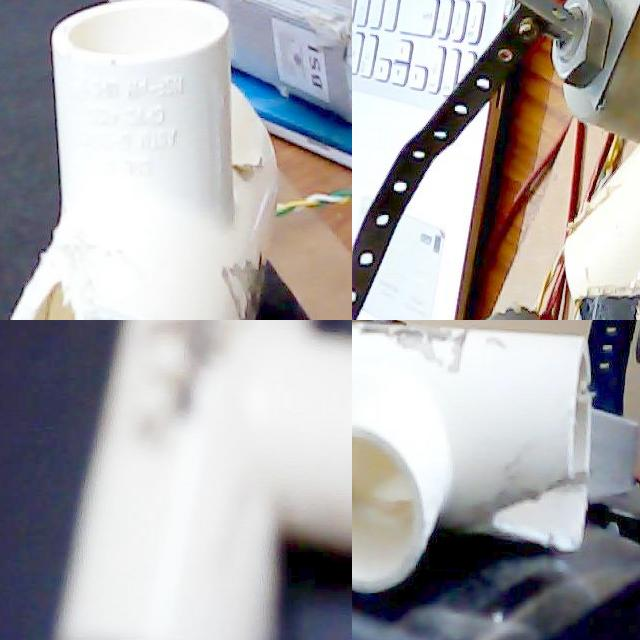Defective: (126, 320, 272, 475), (472, 422, 590, 566), (358, 323, 478, 388), (3, 245, 102, 320), (352, 371, 400, 498), (226, 134, 272, 194), (582, 192, 619, 264), (226, 244, 257, 320), (584, 281, 640, 320)
T Joint: (53, 320, 352, 640), (9, 0, 279, 320), (352, 320, 591, 596)
